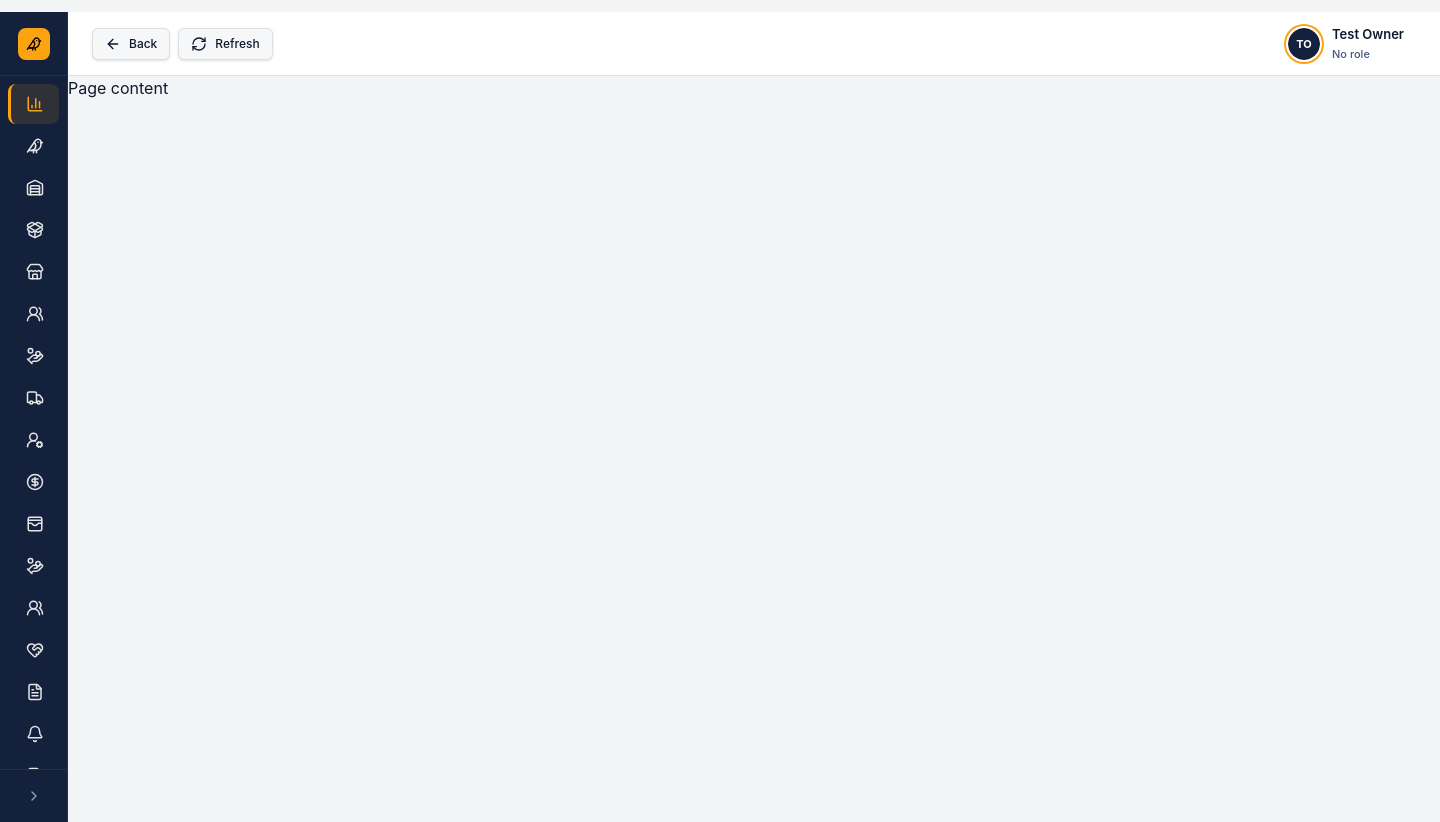
Test case: AppShell sidebar preference › restores collapsed state on mount and persists the next toggle
Click the button named "Expand sidebar" at {"x": 34, "y": 796}, box top-left (8, 778), bottom-right (59, 814)
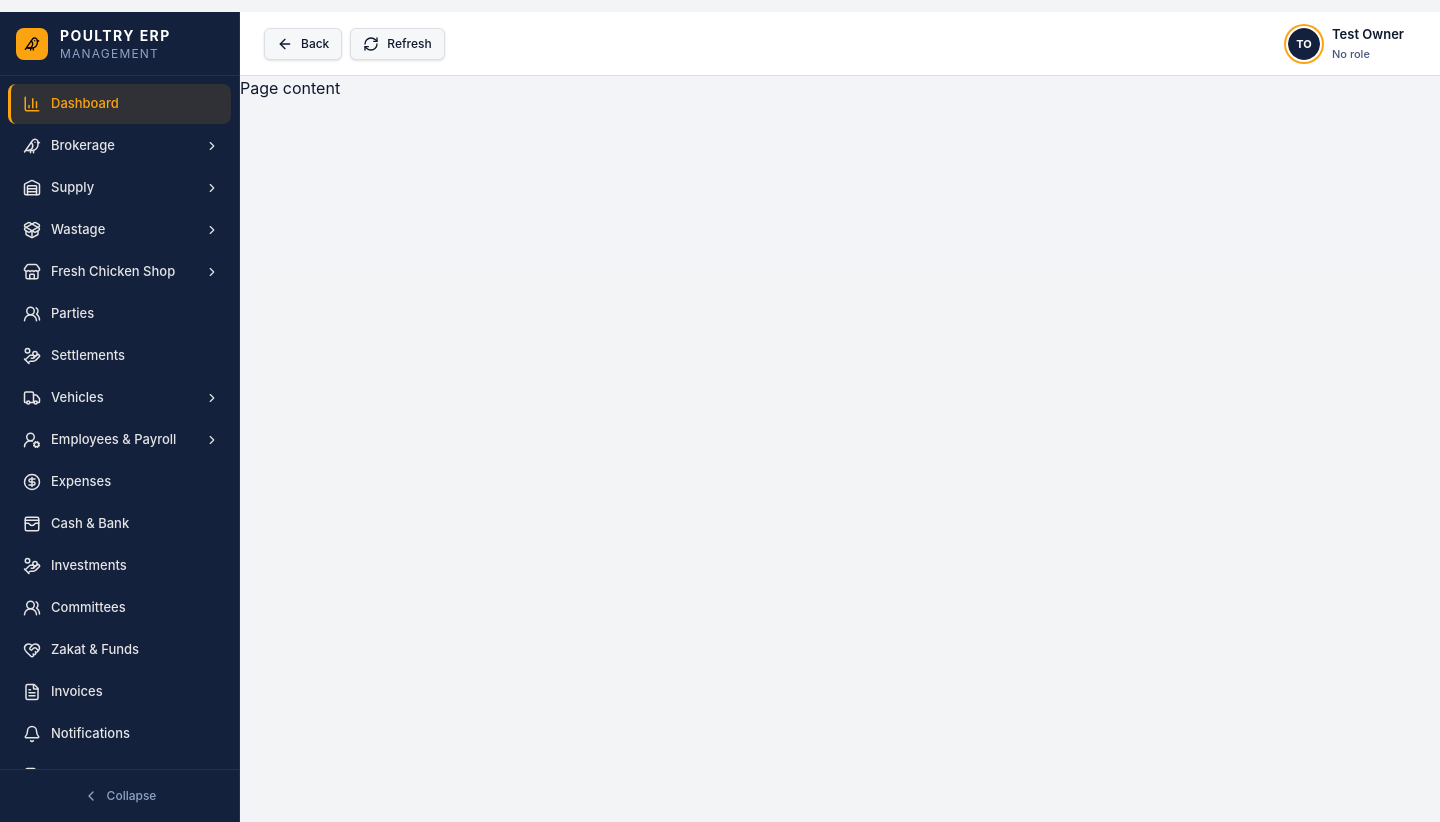
Check: the button with aria-label "Collapse sidebar" is expanded, box top-left (8, 778), bottom-right (231, 814)
